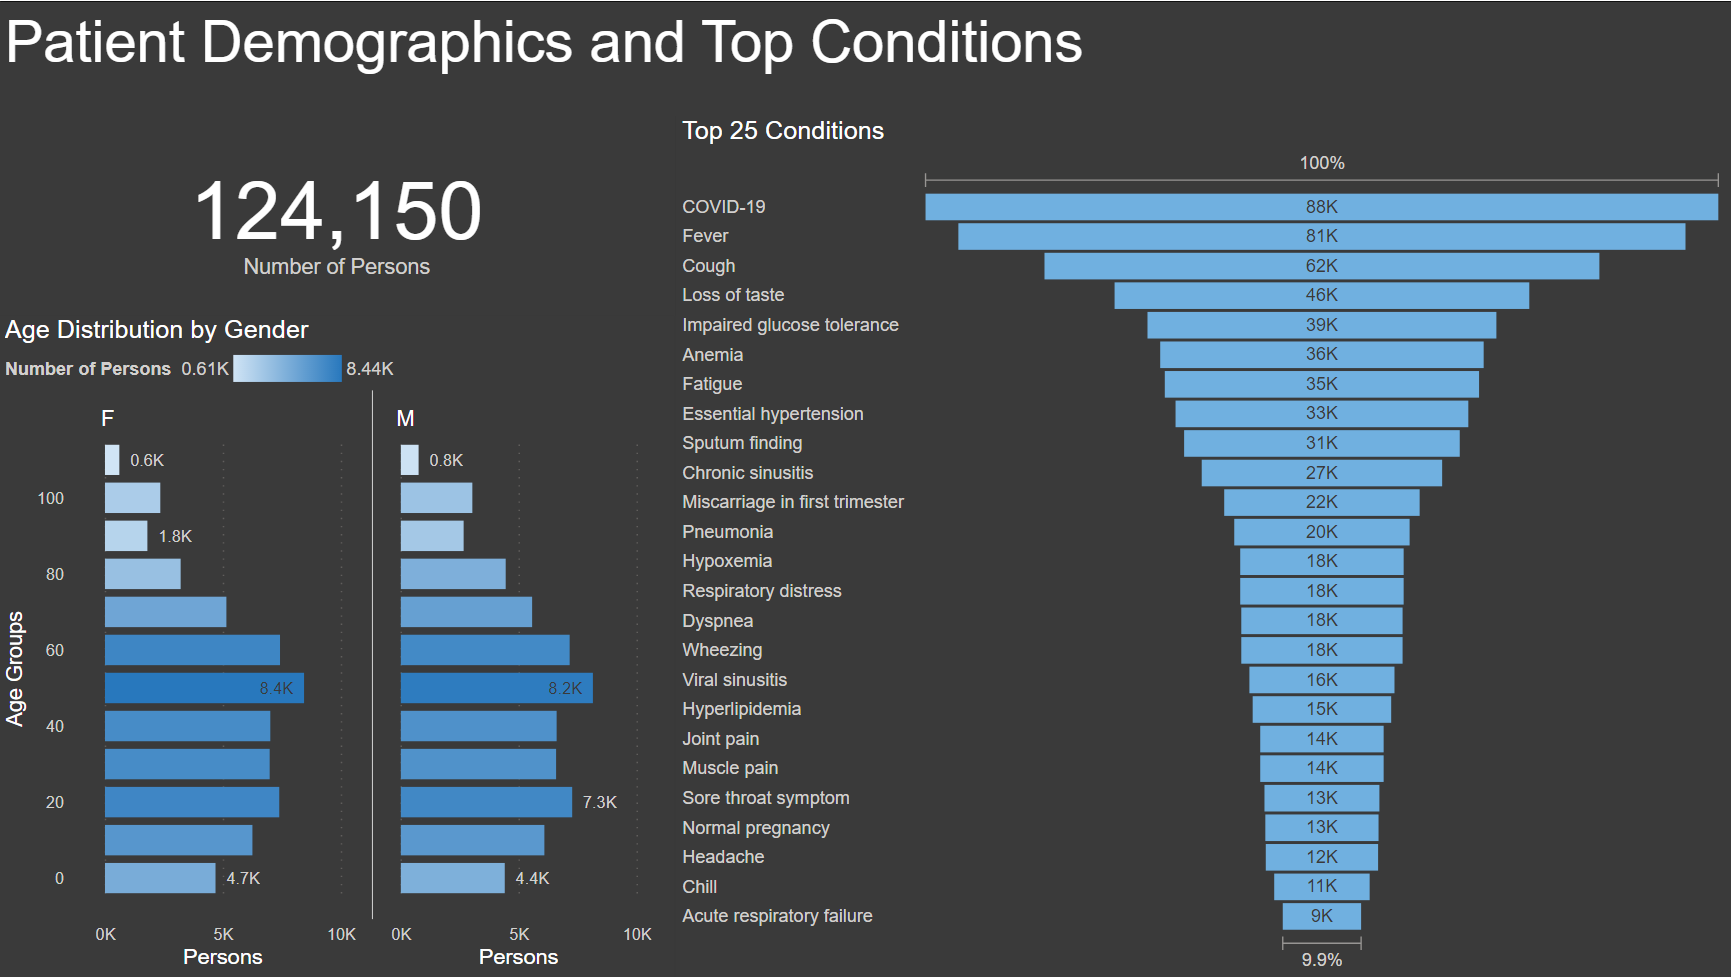

The page's visual inventory and layout, read from the dashboard file:
{"tool":"powerbi","page":{"name":"Summary","canvas":[1280,720],"ordinal":0},"visuals":[{"type":"funnel","title":"Top 25 Conditions","fields":{"Category":["Condition.Condition"],"Y":["Sum(Condition Era.condition_occurrence_count)"]},"box":[499.9,84,780.1,636.8],"z":0},{"type":"card","fields":{"Values":["CountNonNull(Person.person_id)"]},"box":[0,84,499.9,147.2],"z":1},{"type":"clusteredBarChart","title":"Age Distribution by Gender","fields":{"Category":["Person.Age Groups"],"Y":["CountNonNull(Person.person_id)"],"Rows":["Person.gender_source_value"]},"box":[0,231.7,499.2,488.4],"z":2},{"type":"textbox","box":[0,0,1280,84],"z":3}]}

Visuals, with their boxes in screenshot pixels (x1, y1, x2, y2), scaled from the page's 1280x720 canvas onto the 1731x977 screenshot:
"Top 25 Conditions" funnel: detection(676, 114, 1730, 976)
card - CountNonNull(Person.person_id): detection(0, 114, 676, 314)
"Age Distribution by Gender" clusteredBarChart: detection(0, 314, 675, 976)
textbox: detection(0, 0, 1730, 114)
